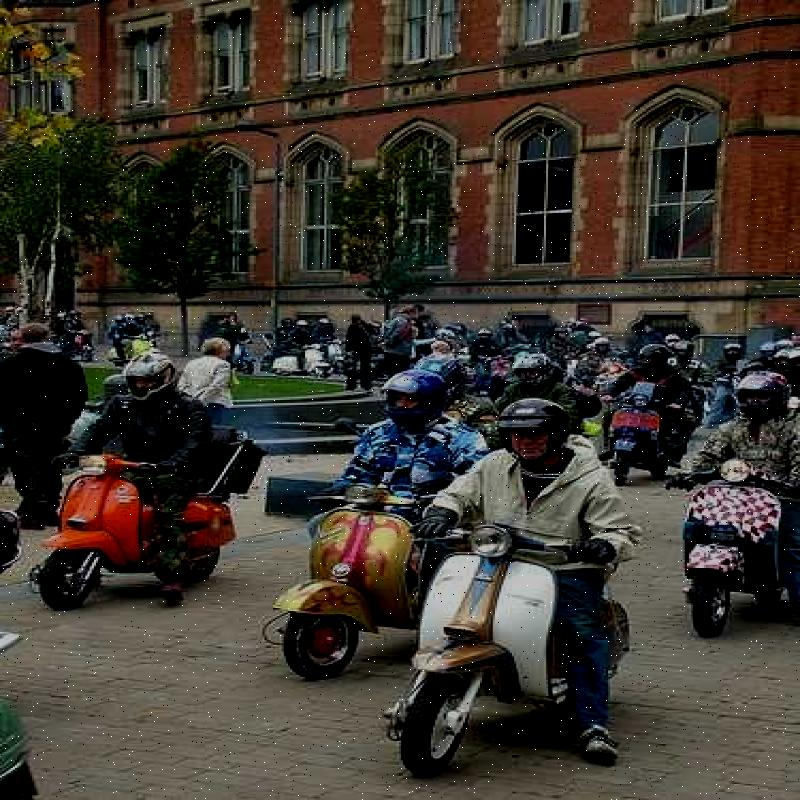bike: (406, 509, 574, 763), (31, 432, 220, 612), (278, 484, 406, 668), (683, 461, 800, 652), (607, 384, 656, 482)
